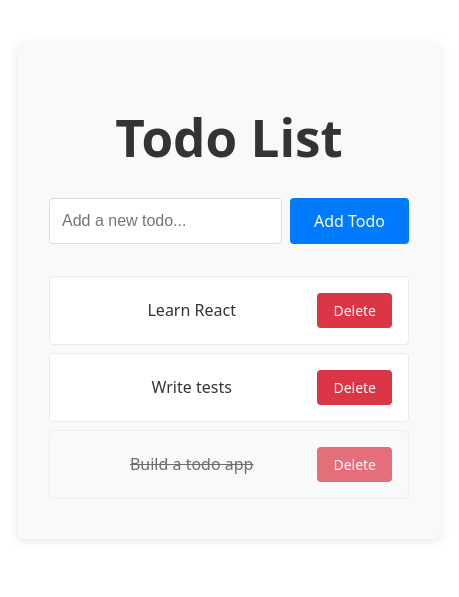
TodoList Component › adds a new todo
This screenshot has width=459, height=597.
Type "New todo item" into the field with placeholder "Add a new todo...". click: (166, 221)
box: [49, 198, 282, 244]
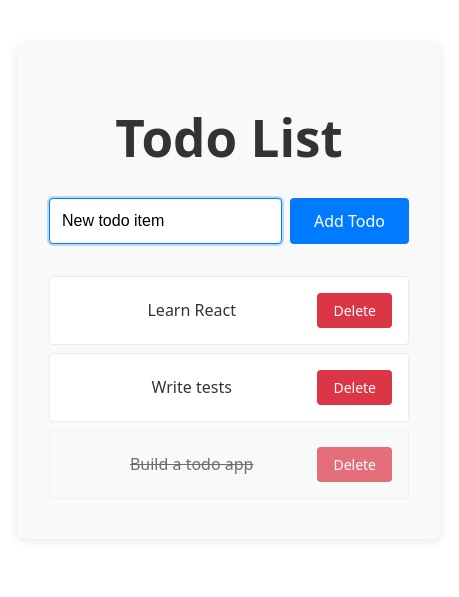
Click the button "Add Todo". click: (350, 221)
box: [290, 198, 409, 244]
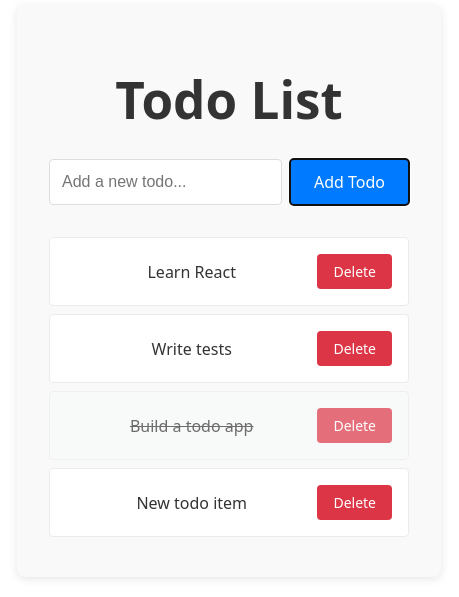
Now the text "New todo item" is shown, box [136, 492, 247, 514]
Now the field with placeholder "Add a new todo..." is empty, box [49, 159, 282, 205]
